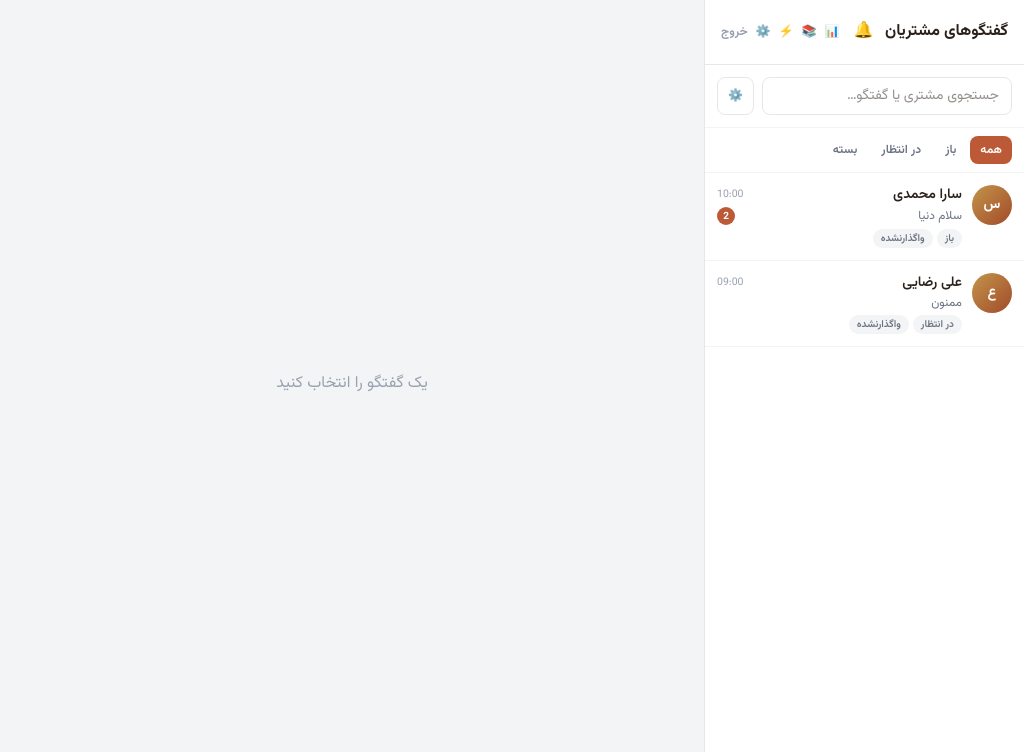
Test case: Operator dashboard — customer conversations page › Knowledge Base + Macro composer integration › inserts an article link into the composer text instead of sending
Click the text "سارا محمدی": (928, 195) x1=893 y1=185 x2=962 y2=205
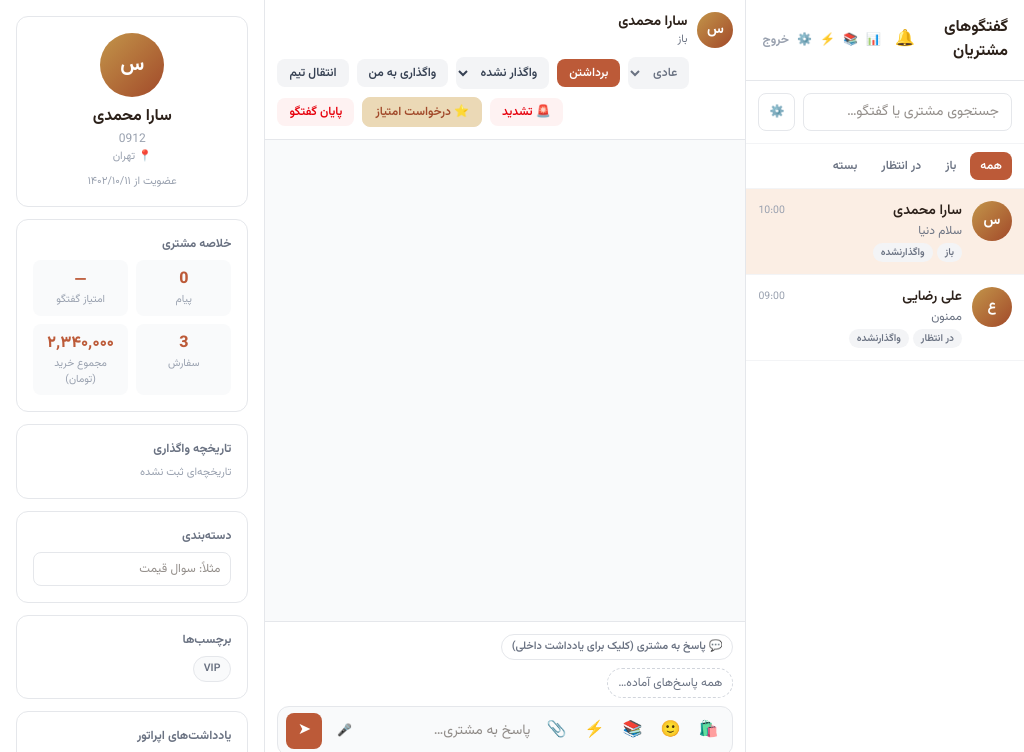
Click the button titled "جستجوی پایگاه دانش": (632, 731) x1=616 y1=715 x2=648 y2=747
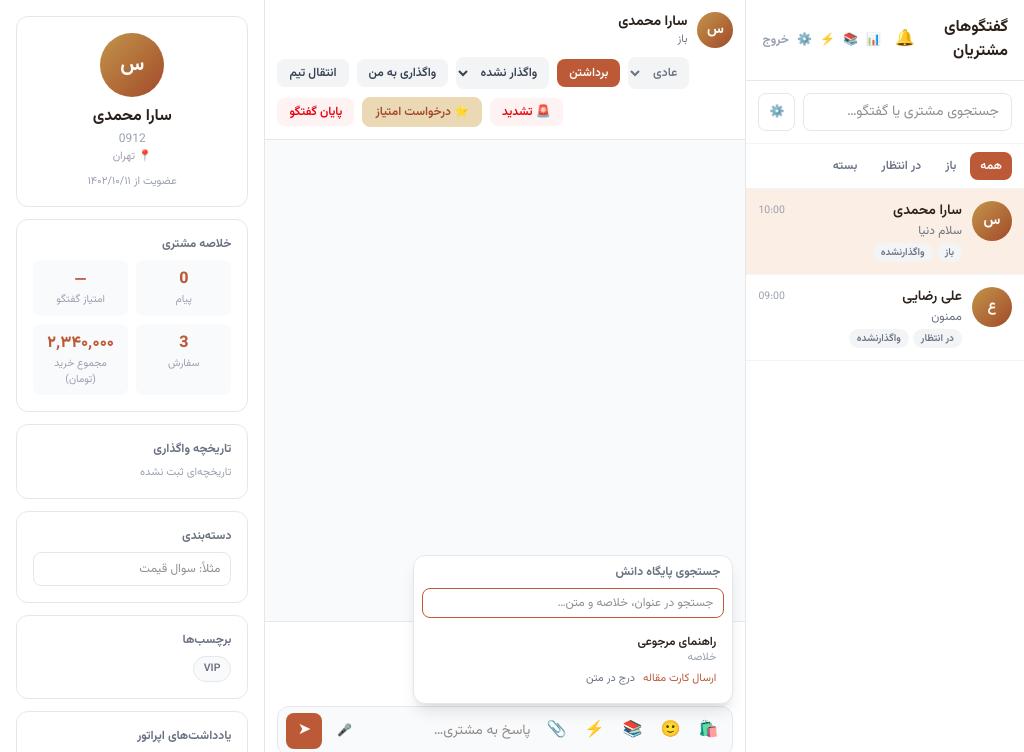
Click the button "درج در متن": (611, 679) x1=586 y1=670 x2=635 y2=687
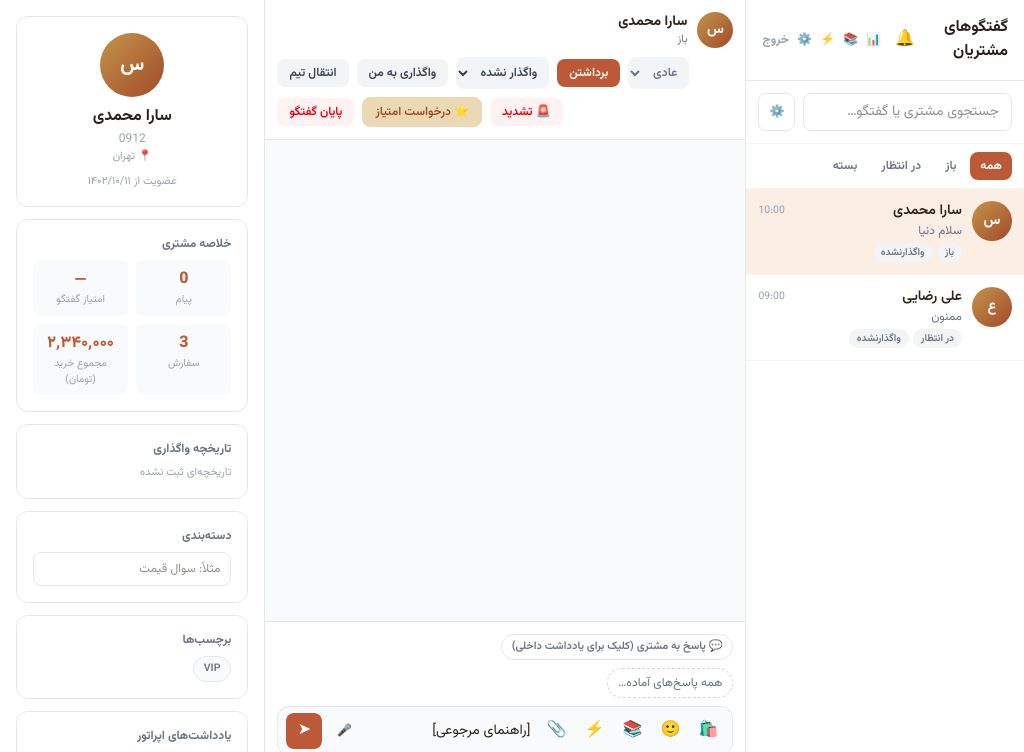
expect the field with placeholder "پاسخ به مشتری…" holds "[راهنمای مرجوعی]": met, box x1=366 y1=721 x2=534 y2=741
